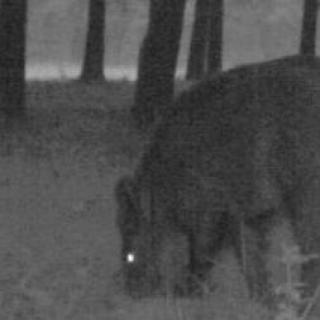Pig: (106, 54, 320, 302)
